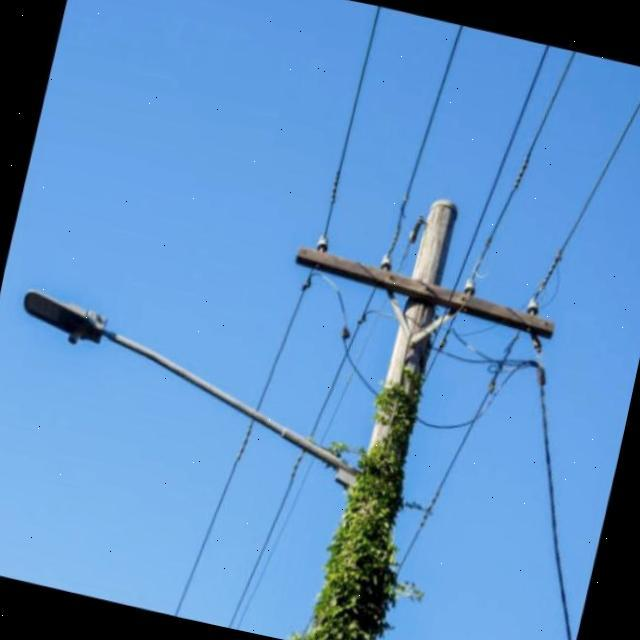critical vegetation: (258, 185, 525, 640)
